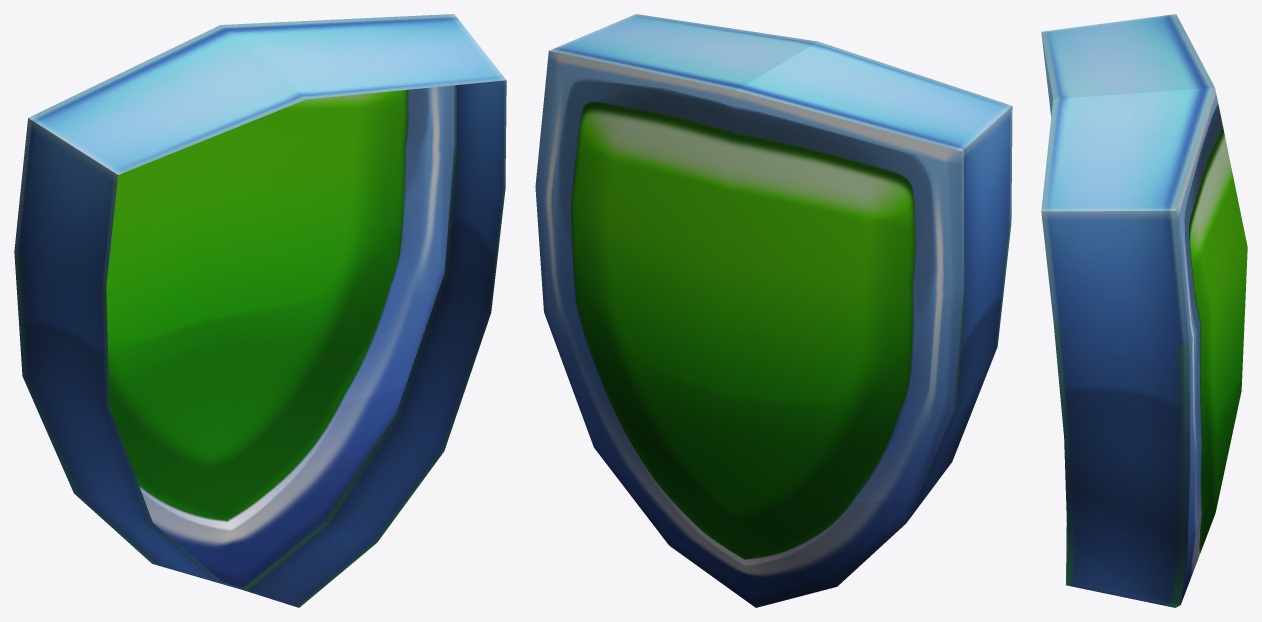
File: bon_shield.fbx
The picture shows the model from 3 angles, left to right: view 1: azimuth 30°, elevation 25°; view 2: azimuth 150°, elevation 25°; view 3: azimuth 270°, elevation 25°; orthographic projection. The views are drawn at different scales.
Parts seen in each view (by area): view 1: bon_shield; view 2: bon_shield; view 3: bon_shield.
Boxes of the visible parts, x1,y1,x2,y2 form: bon_shield: (14,14,506,607); bon_shield: (535,14,1012,607); bon_shield: (1041,14,1247,607).
Size of the model in its own units: 52.95 by 63.15 by 22.71.
